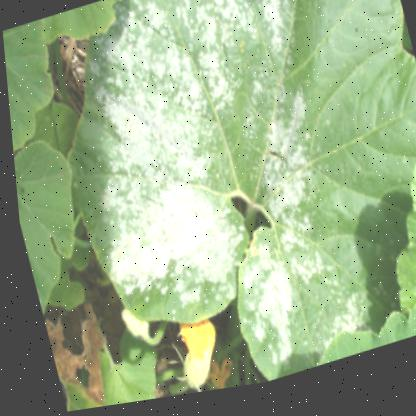PowderyMildew: (107, 0, 335, 218), (72, 81, 235, 308), (232, 224, 356, 372)
